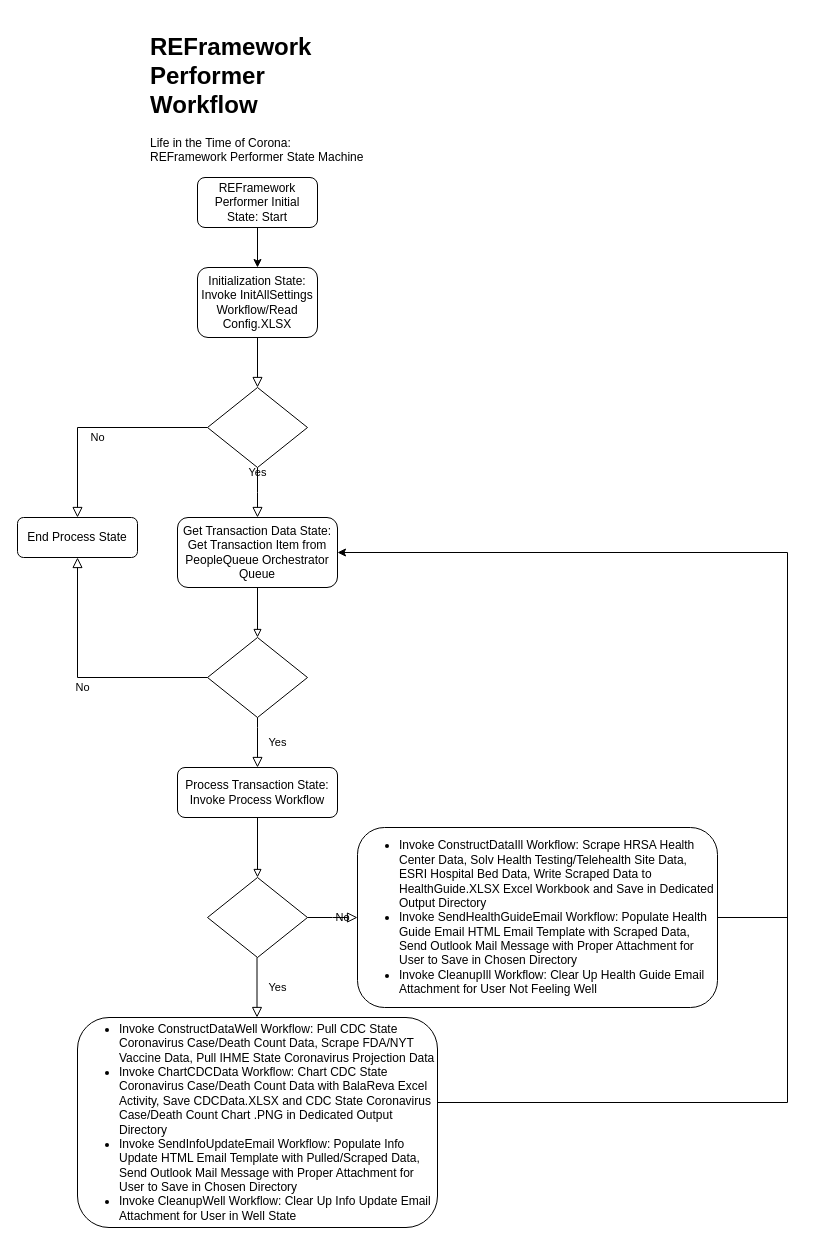
Image size: 813x1252. Some labels were removed from this diagram. Here are the shapes that lost their labels. From the top down, the centre of each, then its label:
At [257,427]: "Initialization Successful".
At [257,677]: "New Transaction".
At [257,917]: "User Is Well".
